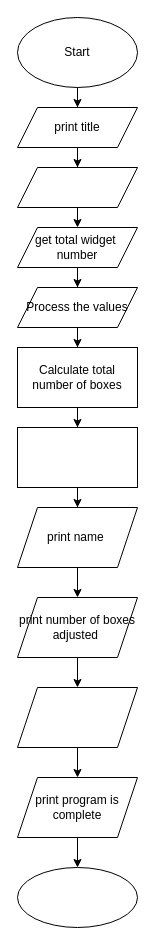
This 155x945 diagram has some shape labels left out. The shapes that lost their labels are listed below. From the top down, each one's box as (x1, y1, x2, y2) in pixels, then its label:
(16, 166, 138, 208): Get name
(16, 426, 138, 488): calculate left over widgets
(16, 686, 138, 748): print number of widgets left
(16, 866, 138, 928): end
